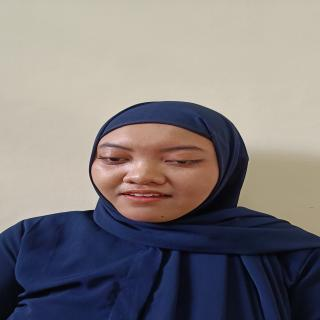Takut: (91, 122, 224, 228)
